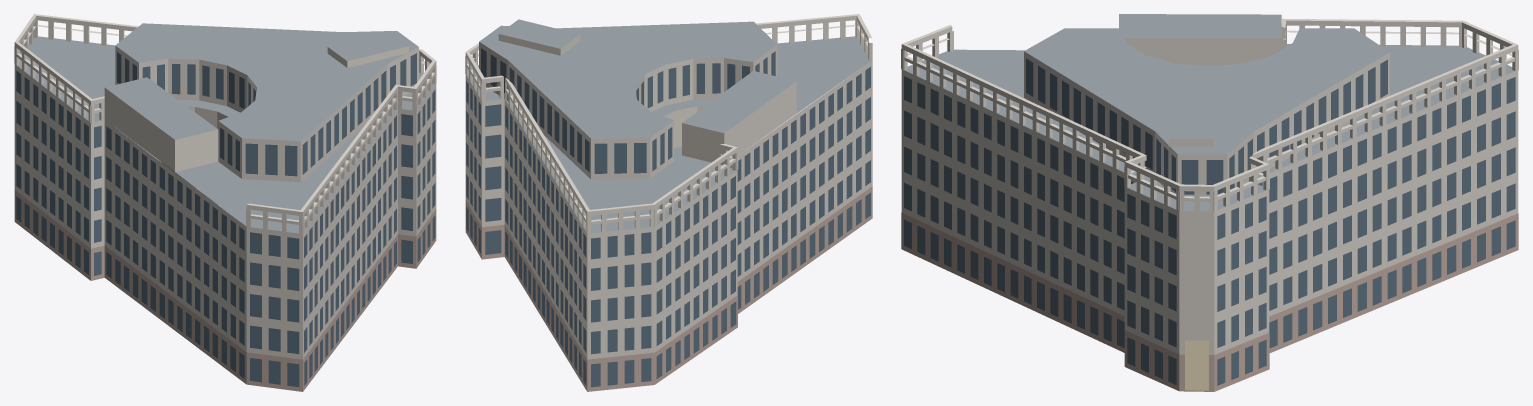
The model's file is clt-mecklenburg-courthouse.glb.
The picture shows the model from 3 angles, left to right: view 1: azimuth 30°, elevation 25°; view 2: azimuth 150°, elevation 25°; view 3: azimuth 270°, elevation 25°; orthographic projection. The views are drawn at different scales.
Parts seen in each view (by area): view 1: Mecklenburg County Courthouse; view 2: Mecklenburg County Courthouse; view 3: Mecklenburg County Courthouse.
Part boxes in pixels (x1=…): Mecklenburg County Courthouse: x1=14, y1=14, x2=436, y2=391; Mecklenburg County Courthouse: x1=465, y1=14, x2=872, y2=391; Mecklenburg County Courthouse: x1=901, y1=14, x2=1518, y2=391.
Size of the model in its own units: 88.15 by 57.3 by 137.
